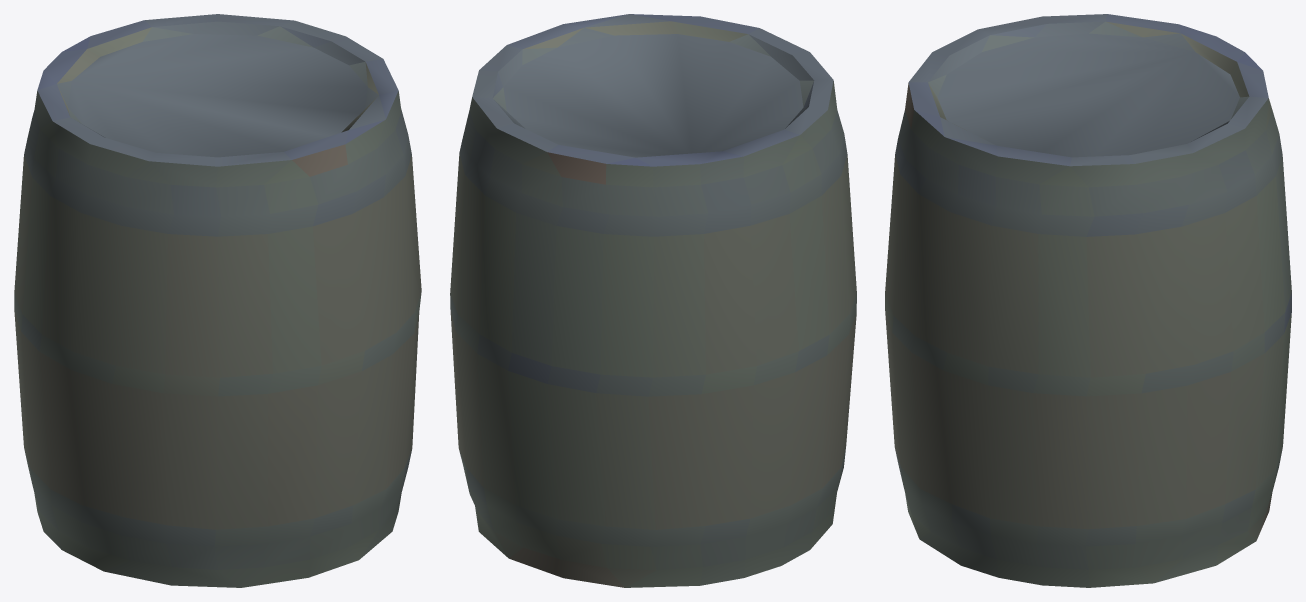
Rendered from barrel_01_LOD.fbx.
3 renders of one model, left to right at view 1: azimuth 30°, elevation 25°; view 2: azimuth 150°, elevation 25°; view 3: azimuth 270°, elevation 25°, orthographic.
Visible parts, largest first — view 1: barrel_01_LOD; view 2: barrel_01_LOD; view 3: barrel_01_LOD.
Part boxes in pixels (x1=…): barrel_01_LOD: x1=14, y1=14, x2=421, y2=587; barrel_01_LOD: x1=450, y1=14, x2=856, y2=587; barrel_01_LOD: x1=885, y1=14, x2=1291, y2=587.
Bounding box in the file's own units: 209 × 240 × 209.
